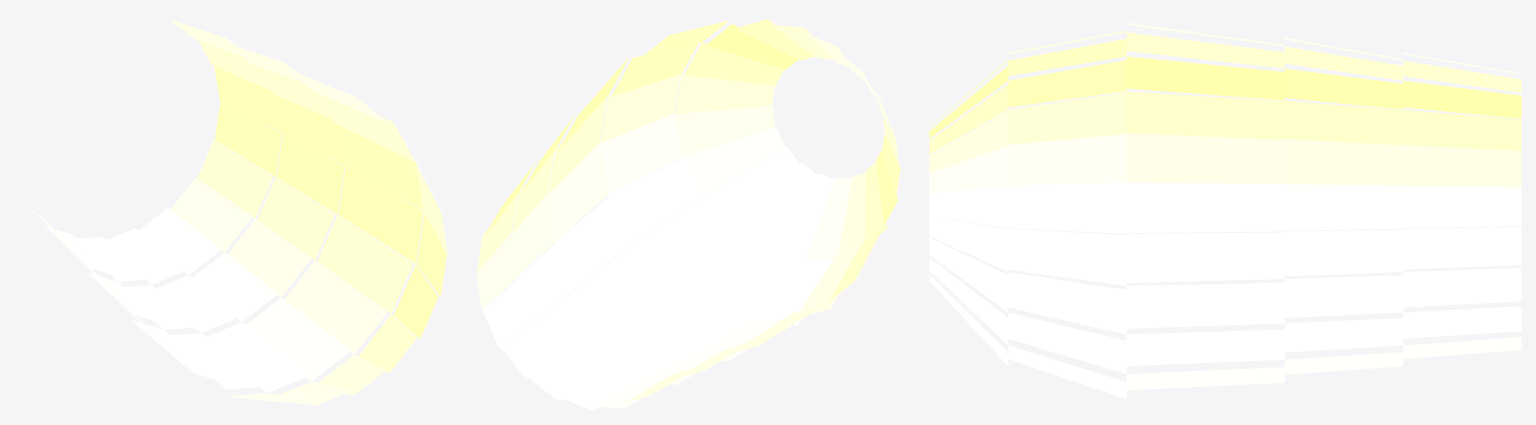
File: mesh_top_structural.glb
3 views of the same model, side by side, from view 1: azimuth 30°, elevation 25°; view 2: azimuth 150°, elevation 25°; view 3: azimuth 270°, elevation 25° (orthographic). The views are drawn at different scales.
Size of the model in its own units: 0.265 by 0.2762 by 0.4125.
